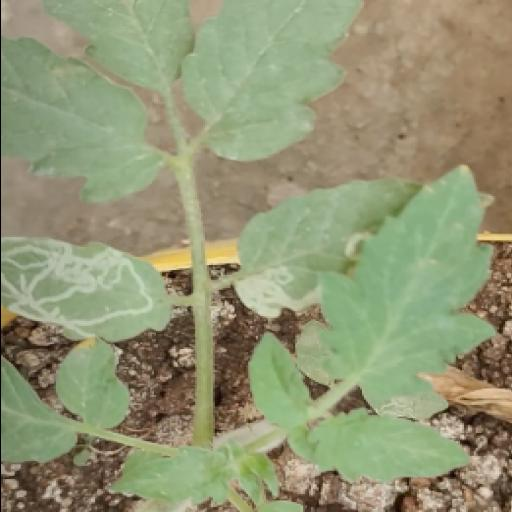disease_tomato: (230, 178, 430, 322), (0, 237, 176, 341)
